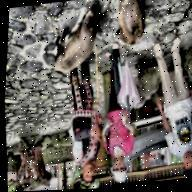boar: (48, 0, 110, 75), (106, 0, 155, 56)
